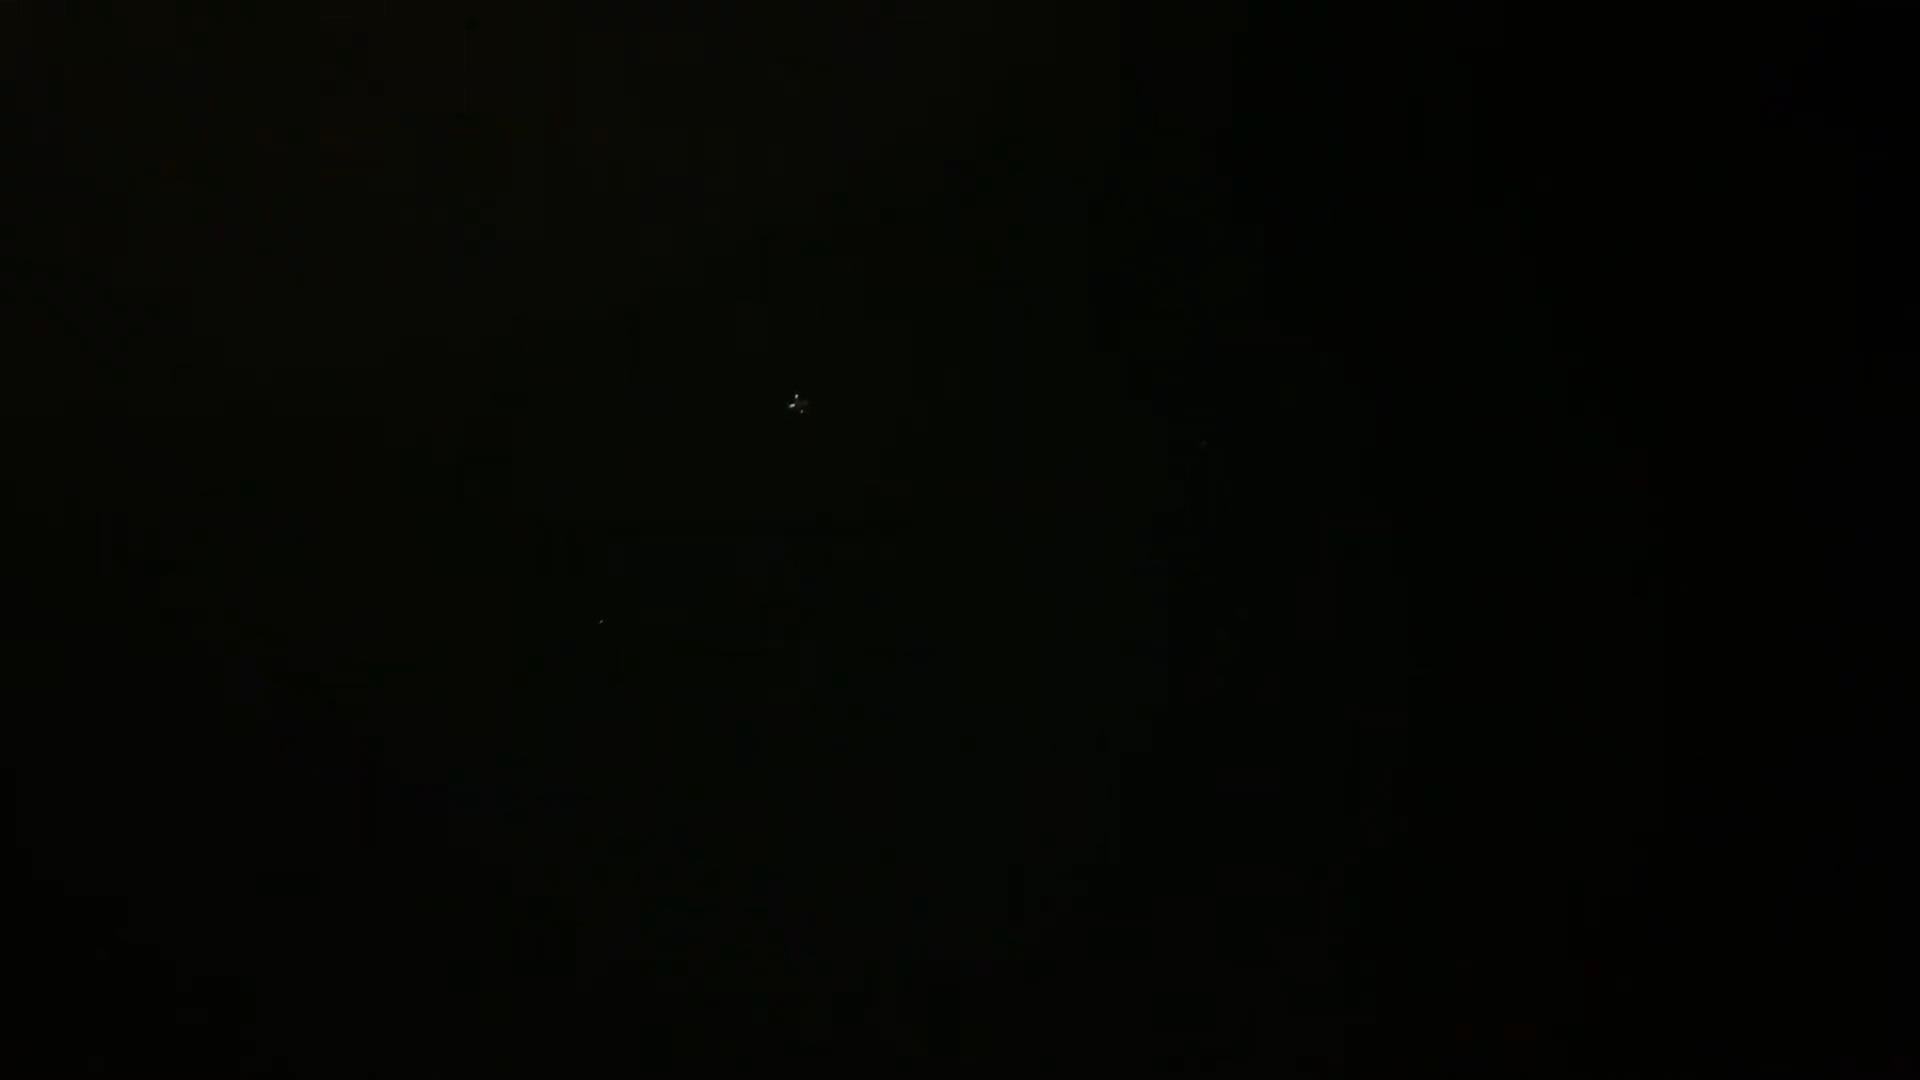Plane: (775, 386, 829, 425)
